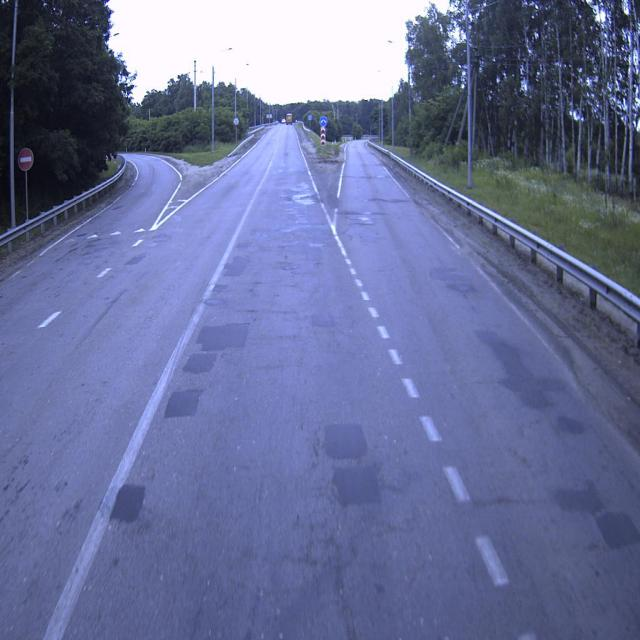road: (0, 122, 640, 639)
